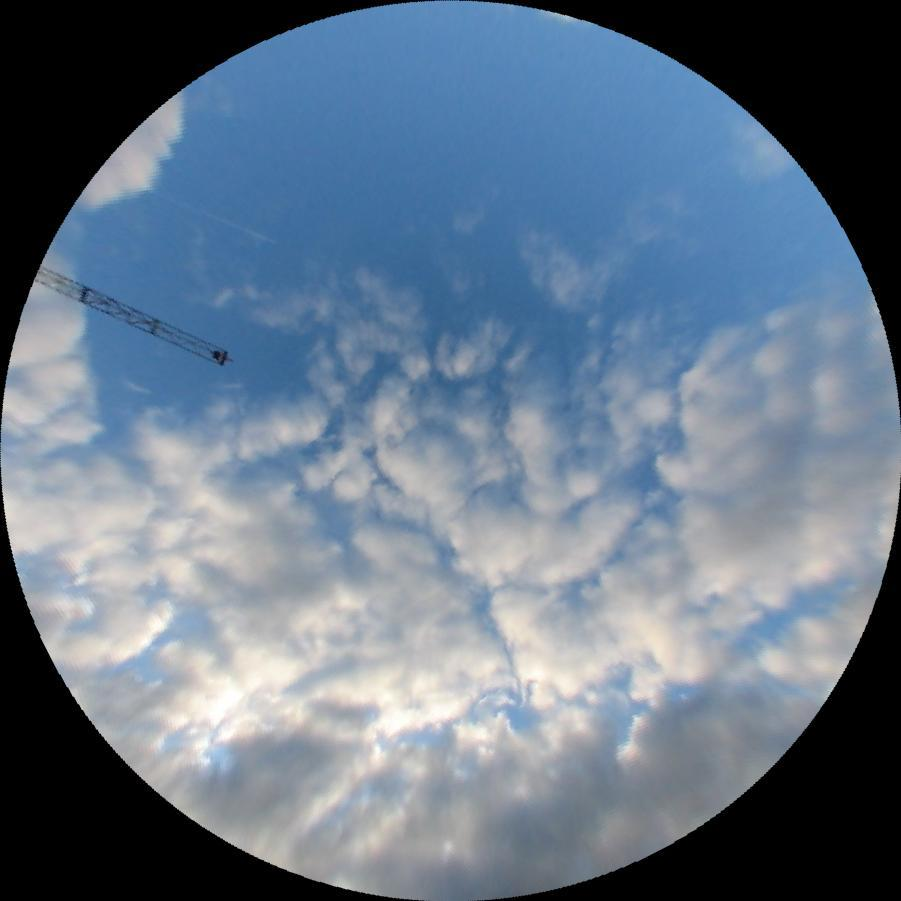contrail young: (191, 205, 278, 246)
